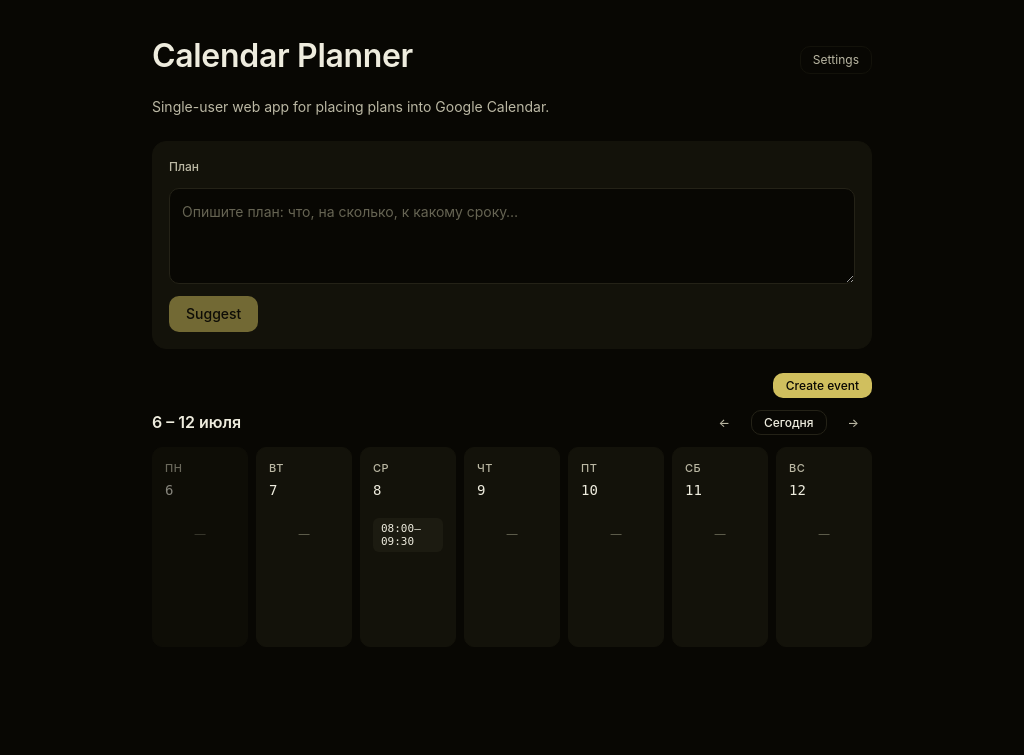
Test case: App event creation flow › shows a soft conflict warning in the event form when the slot overlaps a busy block
Expected: the element with test id "week-view" is shown, [152,410,872,646]
Type "подготовить презентацию" into the text box labelled "План". click: (512, 236)
box: [169,188,855,284]
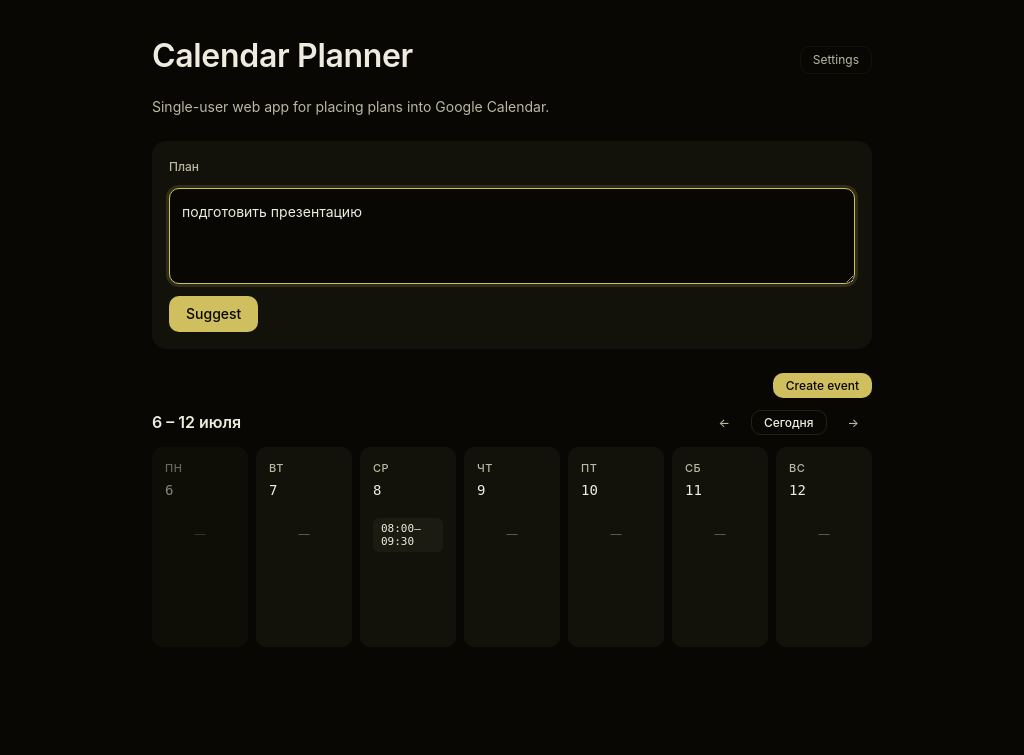
Click the button "Suggest". click: (214, 314)
box: [169,296,258,332]
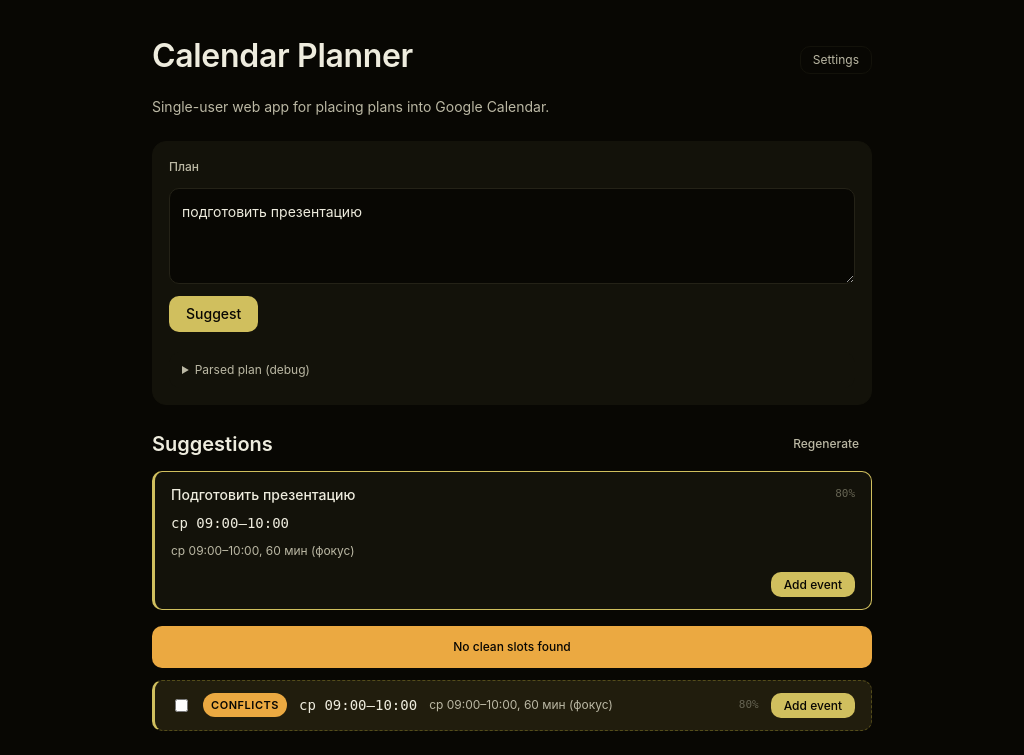
Expected: the element with test id "plan-candidates" is shown, [152,470,872,610]
Click the 1st button "Add event". click: (813, 584)
box: [771,572,855,596]
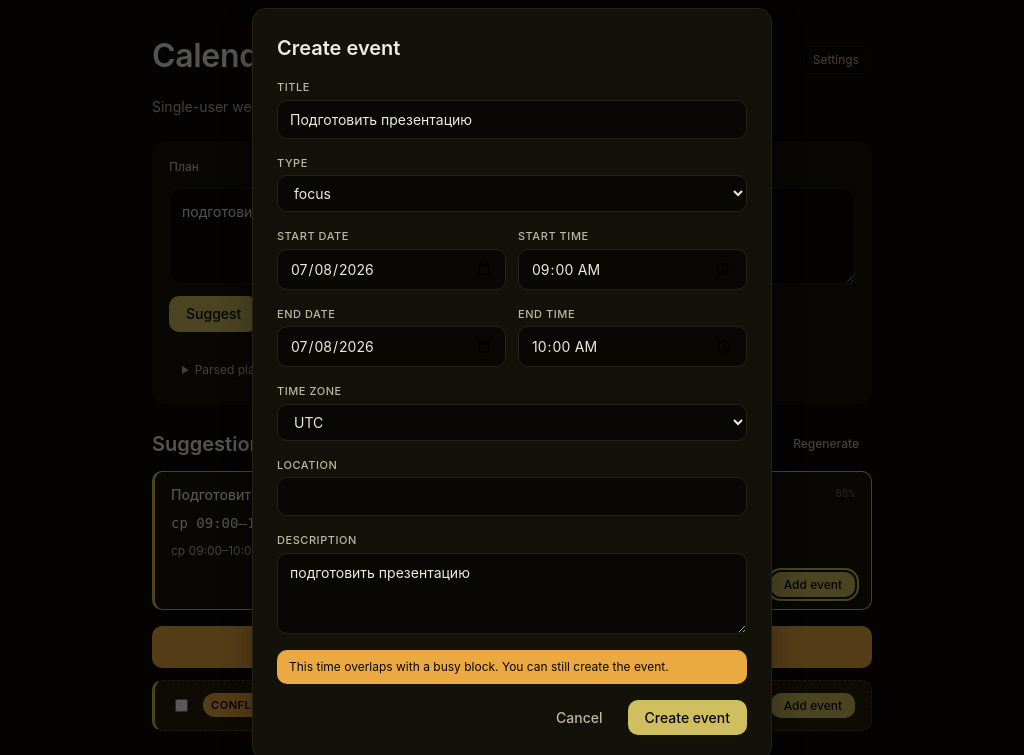
Expected: the message with test id "conflict-warning" shows "overlaps with a busy block", [289,658,669,674]
